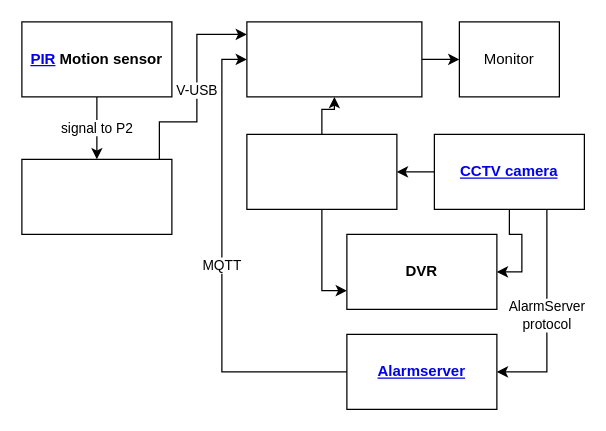
The diagram is 606 pixels wide and 431 high, and some of its shapes have lost their labels. Here are the shapes that lost their labels. From the top down, the centre of each, then its label:
At [334,59]: "CCTV linux laptop/pc (RPI could use PIR directly)".
At [321,171]: "MediaMTX".
At [96,196]: "Digistump attiny85".
